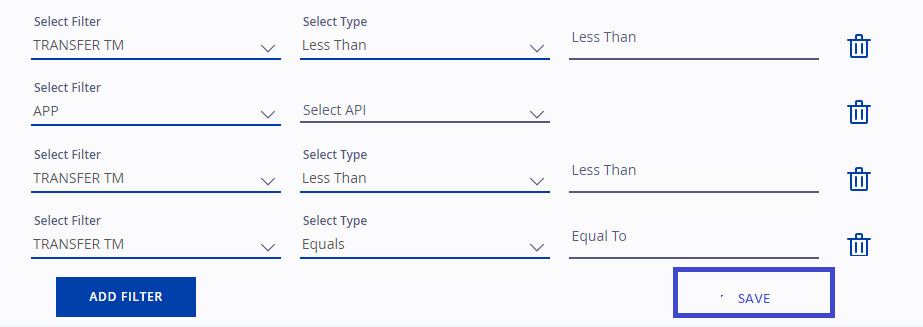_form_: (557, 1, 896, 327), (1, 1, 296, 327), (290, 1, 564, 327)
button: (669, 265, 840, 320), (53, 273, 199, 320)
field_line: (566, 143, 826, 196), (565, 210, 821, 262), (568, 13, 826, 63), (299, 91, 554, 128), (297, 161, 551, 196), (28, 96, 286, 130), (299, 30, 550, 64), (28, 167, 283, 198), (28, 232, 287, 262), (28, 32, 285, 62), (300, 231, 548, 262)
field_line_with_label: (25, 214, 289, 266), (27, 148, 285, 201), (297, 14, 552, 67), (295, 148, 554, 199), (26, 14, 288, 64), (25, 82, 288, 131), (298, 214, 552, 264)
